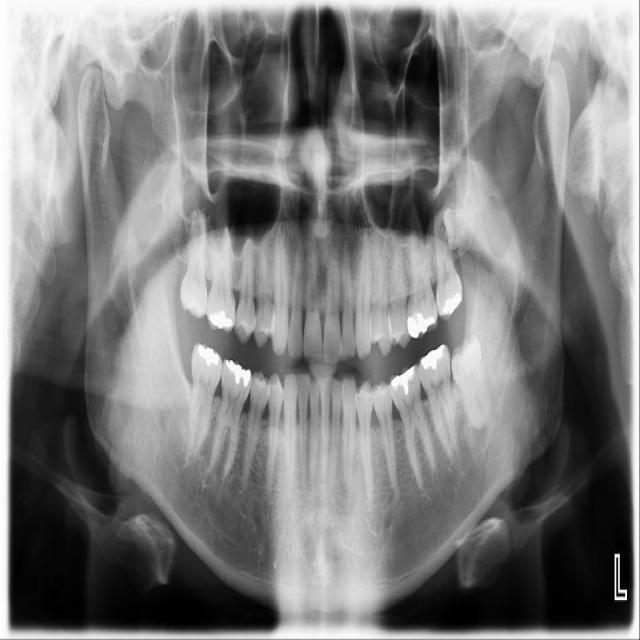Filling: (407, 311, 438, 339), (420, 344, 446, 373), (391, 366, 417, 393), (226, 360, 253, 384), (206, 308, 235, 328), (439, 292, 464, 314), (199, 344, 222, 366)
Periapical lesion: (469, 425, 489, 451)
impacted tooth: (452, 334, 490, 429), (443, 206, 483, 250)
